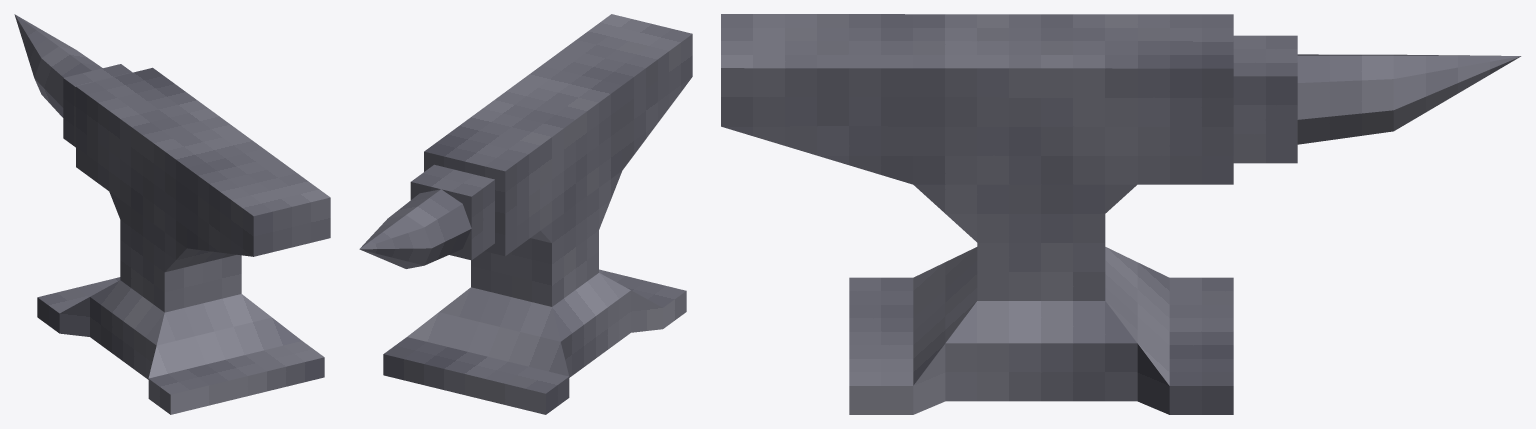
The model's file is anvil_lead.obj.
3 renders of one model, left to right at view 1: azimuth 30°, elevation 25°; view 2: azimuth 150°, elevation 25°; view 3: azimuth 270°, elevation 25°, orthographic. The views are drawn at different scales.
Visible parts, largest first — view 1: Left, Top, Back; view 2: Left, Top, Front; view 3: Right, Top, Front, Back.
Boxes of the visible parts, x1,y1,x2,y2 form: Left: [15, 15, 253, 414]; Top: [14, 14, 330, 394]; Back: [148, 197, 330, 414]; Left: [360, 34, 692, 414]; Top: [360, 14, 692, 393]; Front: [383, 151, 569, 414]; Right: [721, 56, 1520, 414]; Top: [721, 14, 1520, 385]; Front: [1105, 247, 1169, 385]; Back: [913, 247, 977, 385].
Size of the model in its own units: 0.5 by 0.6885 by 1.56.
